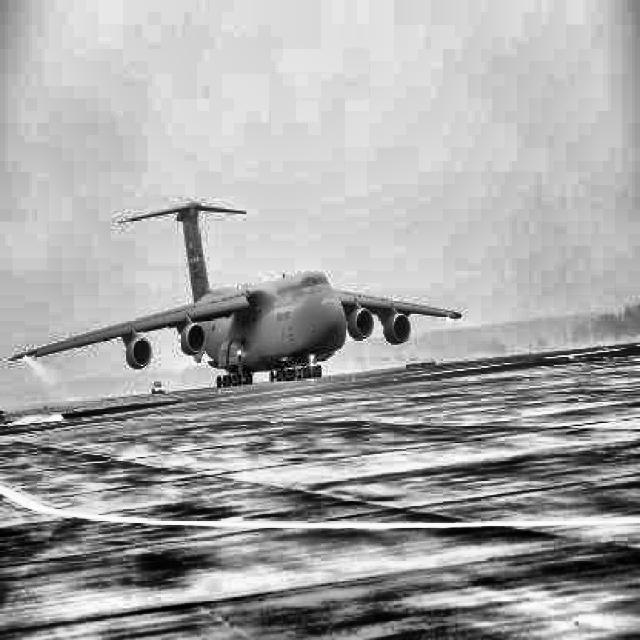C5: (9, 200, 462, 388)
